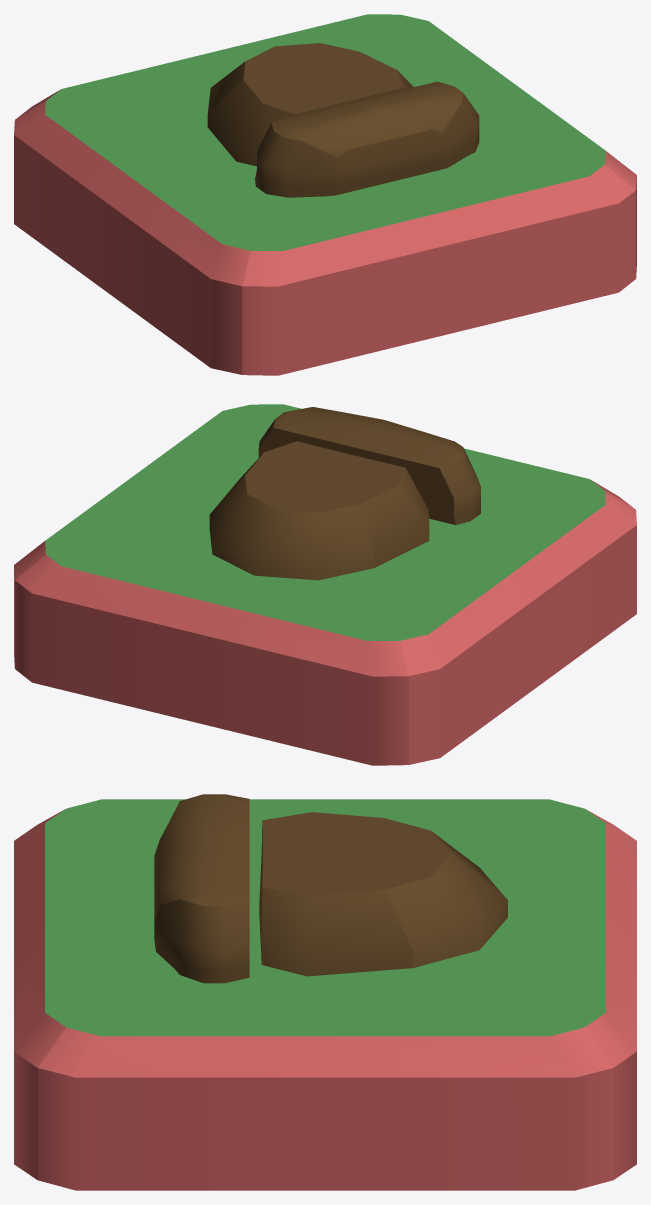
File: Tile_Seed_Acorn.fbx
3 views of the same model, one above another, from view 1: azimuth 30°, elevation 25°; view 2: azimuth 150°, elevation 25°; view 3: azimuth 270°, elevation 25° (orthographic). The views are drawn at different scales.
Parts seen in each view (by area): view 1: seedTile, pCube22; view 2: seedTile, pCube22; view 3: seedTile, pCube22.
Part boxes in pixels (box(x1,y1,x2,y2)): seedTile: box(14, 14, 636, 375); pCube22: box(207, 43, 479, 197); seedTile: box(14, 404, 636, 765); pCube22: box(209, 407, 480, 580); seedTile: box(14, 799, 636, 1190); pCube22: box(154, 794, 507, 983).
Bounding box in the file's own units: 0.3937 × 0.1522 × 0.3937.
